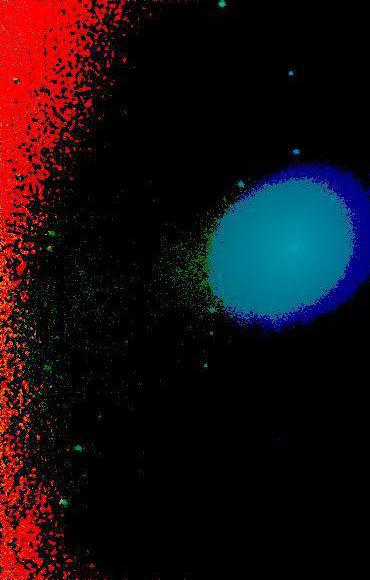star: (206, 183, 236, 213)
